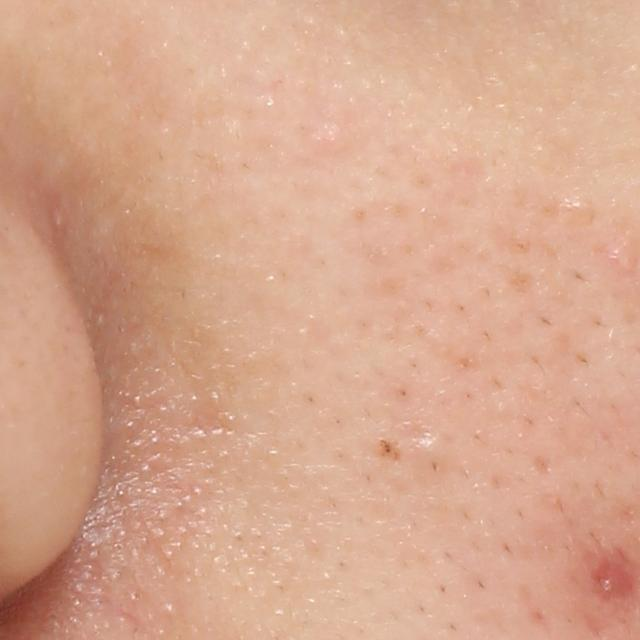comedo: (402, 434, 453, 476), (557, 194, 590, 232)
